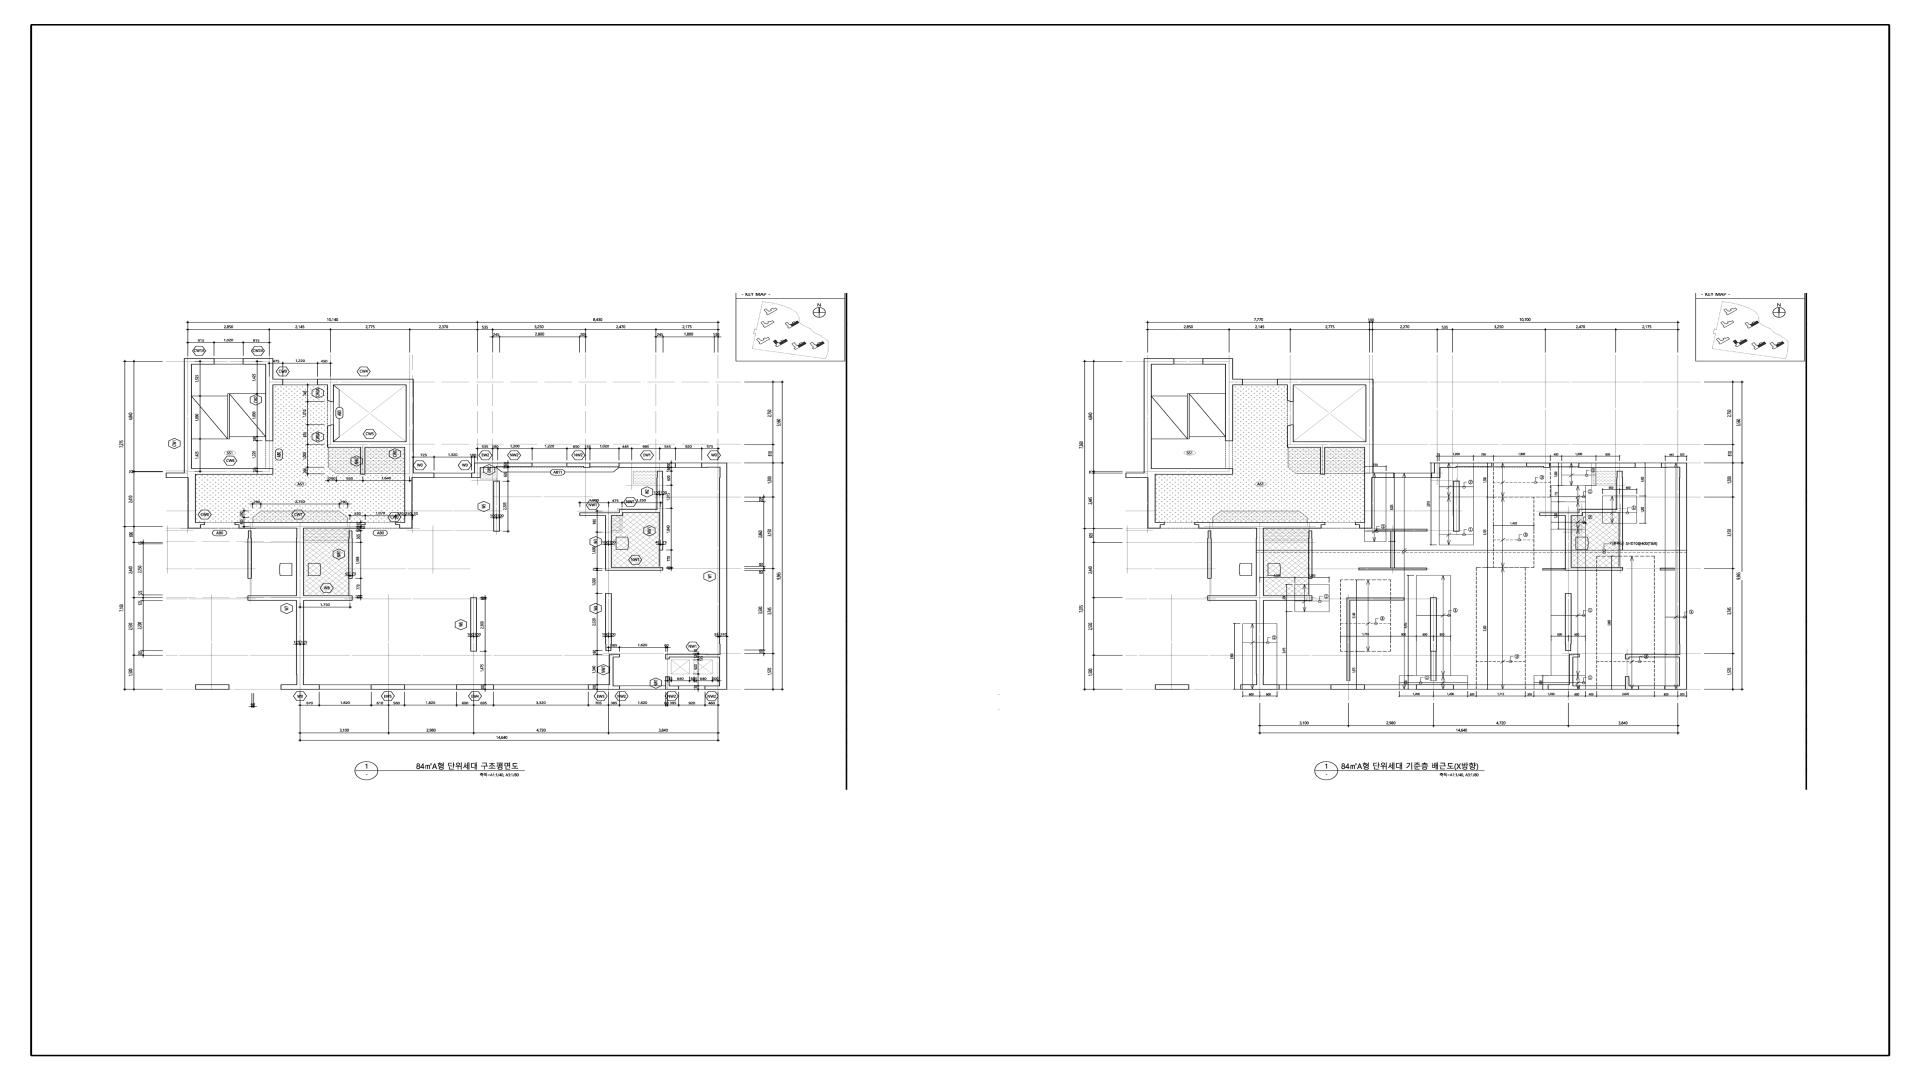wall: (719, 463, 727, 686), (1679, 468, 1687, 686), (404, 379, 414, 522), (1364, 385, 1374, 522), (184, 365, 196, 478), (296, 528, 304, 690), (1256, 528, 1264, 685), (1195, 522, 1325, 529), (1144, 468, 1233, 478), (1144, 364, 1152, 468), (235, 522, 366, 528), (265, 365, 273, 441), (1225, 365, 1233, 441), (1277, 379, 1374, 385), (196, 468, 273, 475), (317, 379, 406, 385), (334, 441, 404, 448), (657, 471, 663, 551), (1287, 442, 1365, 448), (605, 593, 612, 651), (1565, 593, 1572, 651), (470, 597, 477, 652), (1565, 516, 1572, 571), (1430, 597, 1437, 651), (493, 481, 500, 532), (605, 516, 612, 567), (1453, 481, 1460, 532), (188, 478, 196, 522), (1148, 478, 1156, 522), (1346, 601, 1350, 681), (1434, 463, 1492, 468), (619, 463, 676, 468), (1579, 463, 1636, 468), (481, 463, 533, 468), (304, 596, 353, 601), (348, 531, 353, 579), (1308, 531, 1313, 579), (1264, 596, 1312, 601), (605, 567, 663, 571), (456, 684, 494, 690), (1617, 471, 1623, 509), (184, 358, 215, 365), (243, 358, 273, 365), (1144, 358, 1174, 365), (1203, 358, 1233, 365), (371, 684, 405, 690), (1572, 567, 1623, 571), (588, 684, 620, 690), (1416, 685, 1454, 690), (1390, 532, 1395, 568), (1431, 652, 1437, 681), (1347, 598, 1404, 601), (1331, 685, 1365, 690), (327, 425, 334, 448), (1548, 685, 1580, 690), (1583, 509, 1623, 513), (1376, 529, 1428, 532), (1630, 654, 1680, 657), (1619, 513, 1623, 550), (670, 654, 719, 657), (1358, 568, 1427, 570), (623, 509, 657, 513), (609, 657, 614, 684), (360, 448, 365, 475), (1320, 448, 1325, 475), (1661, 463, 1687, 468), (579, 513, 619, 516), (1256, 685, 1280, 690), (1526, 463, 1550, 468), (1539, 513, 1579, 516), (327, 385, 334, 402), (1148, 522, 1165, 529), (1287, 425, 1294, 442), (1287, 385, 1294, 402), (567, 463, 590, 468), (1569, 657, 1573, 685), (1373, 473, 1394, 478), (395, 522, 412, 528), (188, 522, 205, 528), (1355, 522, 1372, 528), (414, 473, 434, 478), (304, 684, 320, 690), (701, 463, 720, 468), (1664, 686, 1687, 690), (705, 686, 727, 690), (665, 676, 670, 690), (474, 463, 481, 473), (1542, 568, 1565, 571), (273, 379, 283, 385), (1233, 379, 1243, 385), (1625, 686, 1639, 690), (471, 473, 481, 478), (1431, 473, 1441, 478), (1625, 676, 1630, 686), (1660, 568, 1675, 571), (670, 686, 679, 690), (1434, 468, 1441, 473), (609, 654, 620, 657), (1569, 654, 1580, 657), (619, 509, 623, 516), (1579, 509, 1583, 516), (665, 654, 670, 659), (1625, 654, 1630, 659)
